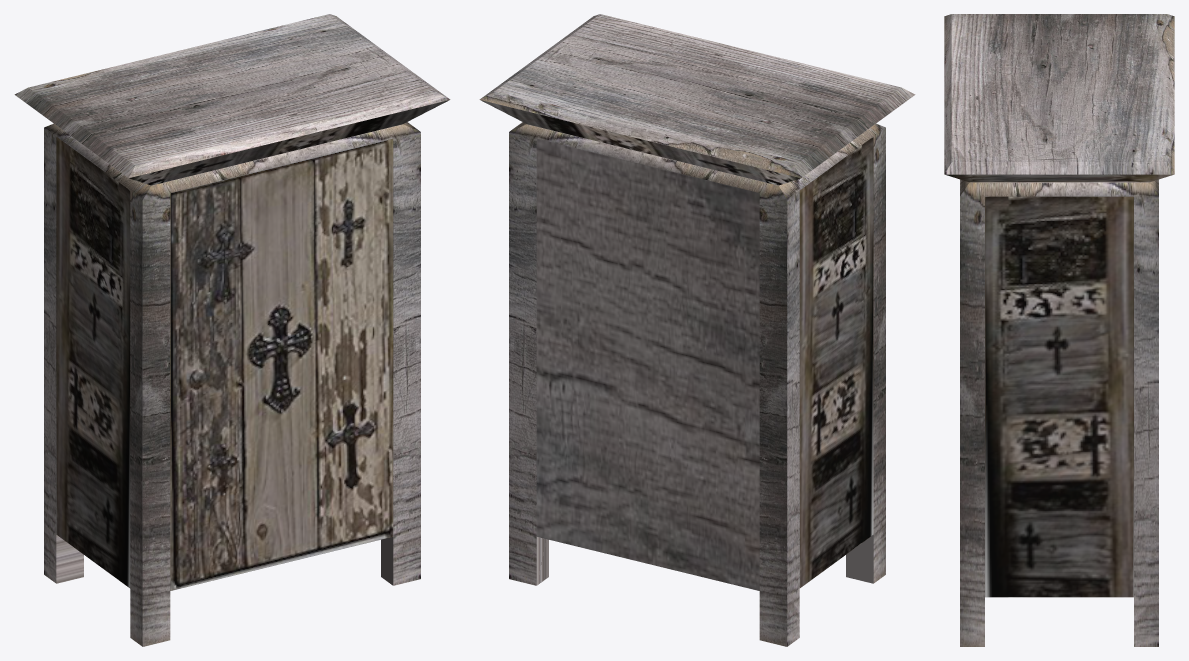
Rendered from endtable_model.fbx.
The picture shows the model from 3 angles, left to right: view 1: azimuth 30°, elevation 25°; view 2: azimuth 150°, elevation 25°; view 3: azimuth 270°, elevation 25°; orthographic projection.
Visible parts, largest first — view 1: pCube11; view 2: pCube11; view 3: pCube11.
Part boxes in pixels (left/top/right/bottom): pCube11: left=14, top=14, right=450, bottom=646; pCube11: left=479, top=14, right=915, bottom=646; pCube11: left=944, top=14, right=1174, bottom=646.
Bounding box in the file's own units: 0.1206 × 0.1743 × 0.0741.
